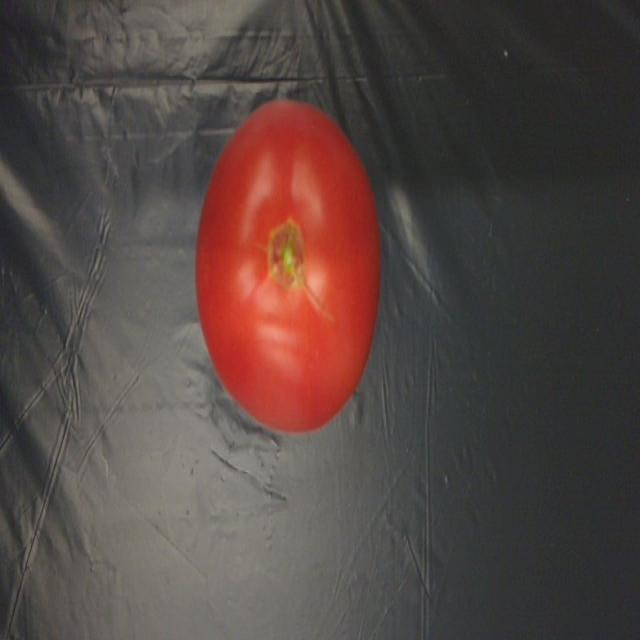kirmizi: (201, 86, 376, 430)
